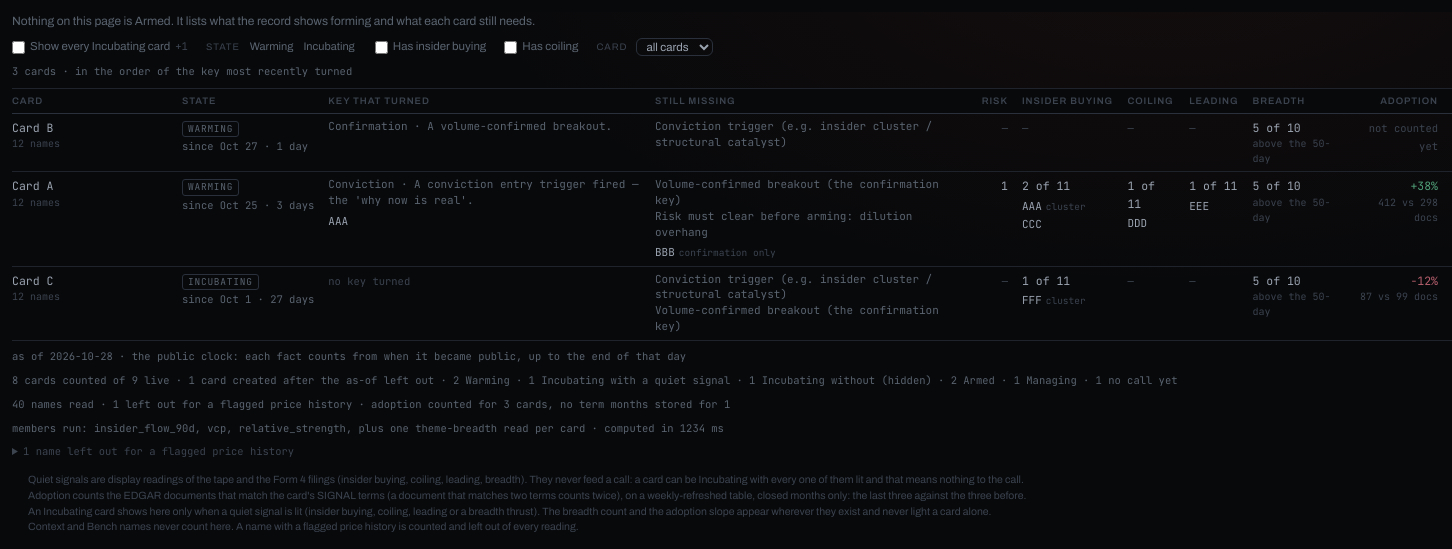
Scenario: FormingQuietly — the Incubating toggle, the filters and the sorts › says when no card passes the filters
Click the checkbox labelled "Has coiling" at (511, 47), box [504,40,517,54]
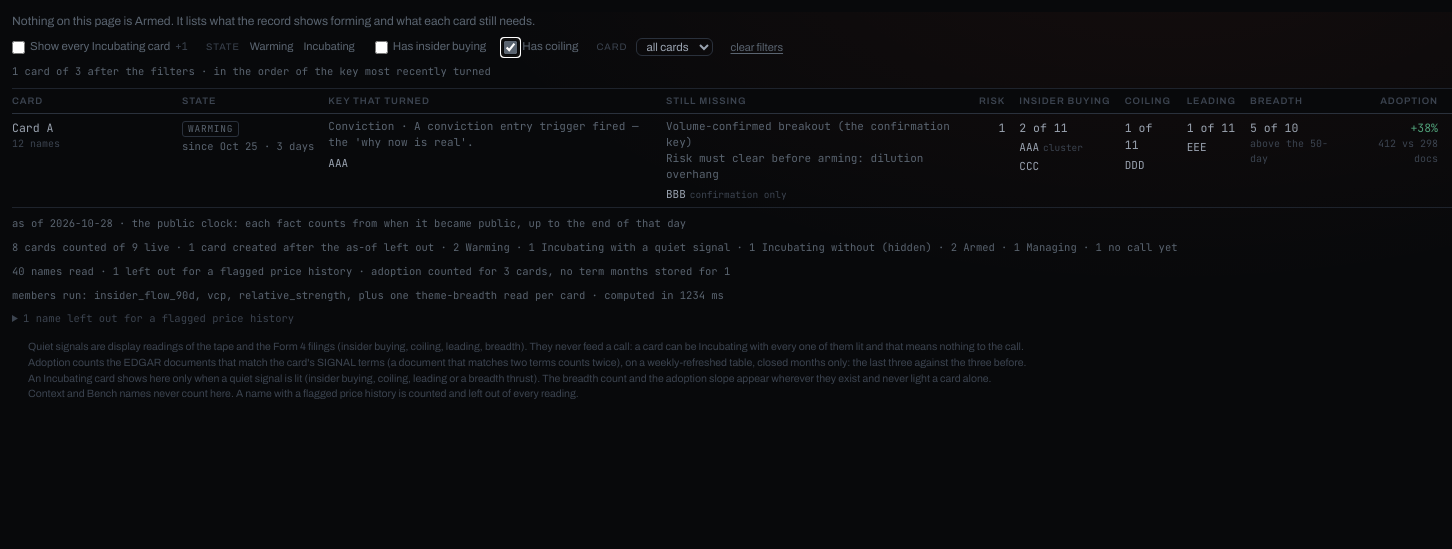
Select "Card C" in the dropdown labelled "Card" at (674, 47), box [636,38,712,56]
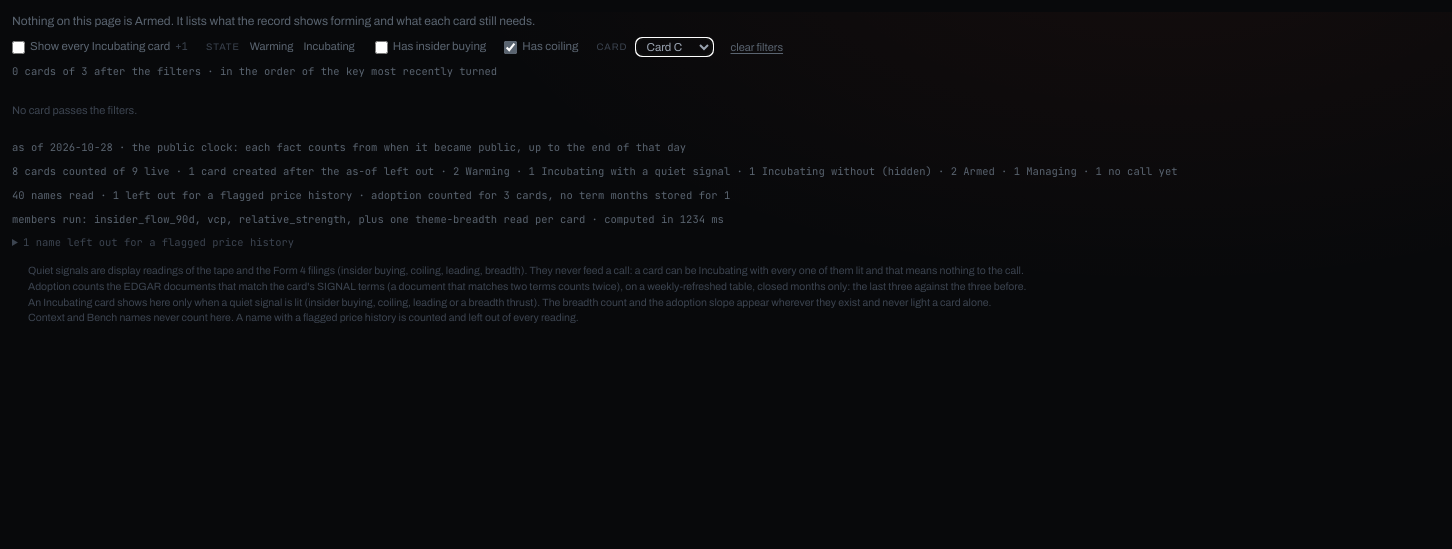
expect the text "No card passes the filters." is shown: met, box [12,104,137,116]
